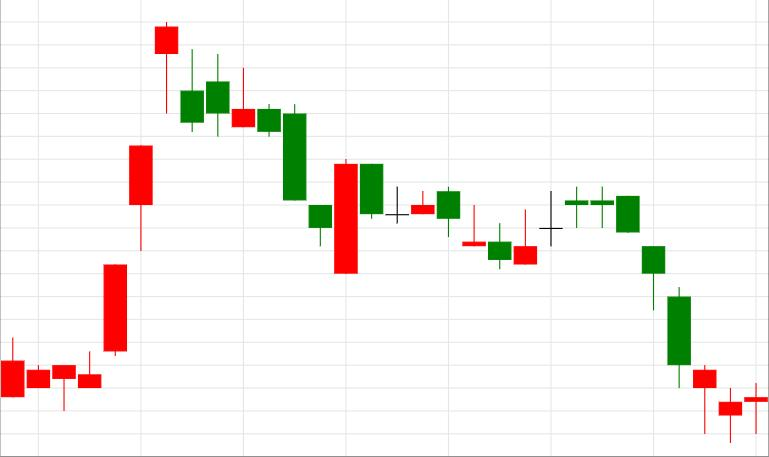bullish_engulfing_rise: (207, 53, 357, 275)
hanging_man_fall: (52, 21, 178, 411)
